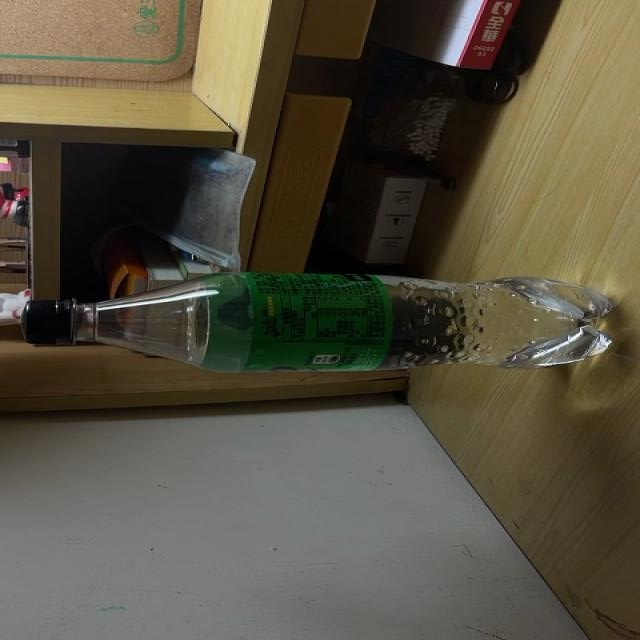Sprite: (18, 271, 618, 375)
